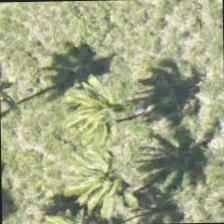Kelapa_Sawit: (51, 58, 143, 150), (63, 145, 156, 223)
